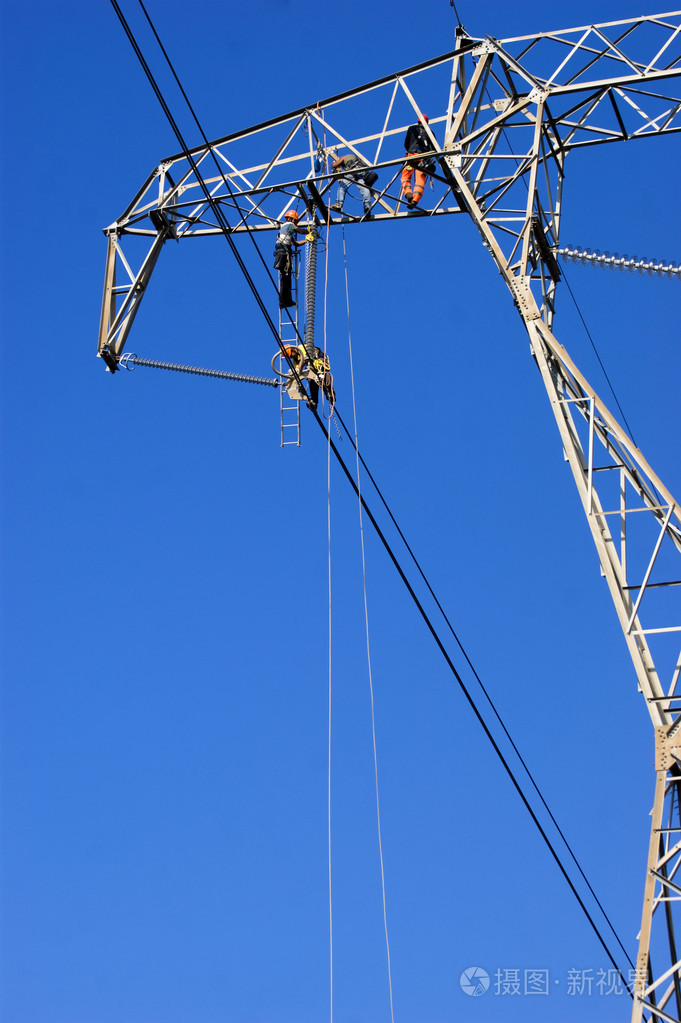insulator: (556, 242, 681, 280)
